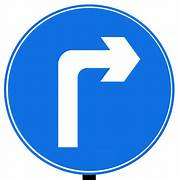right: (6, 3, 175, 174)
